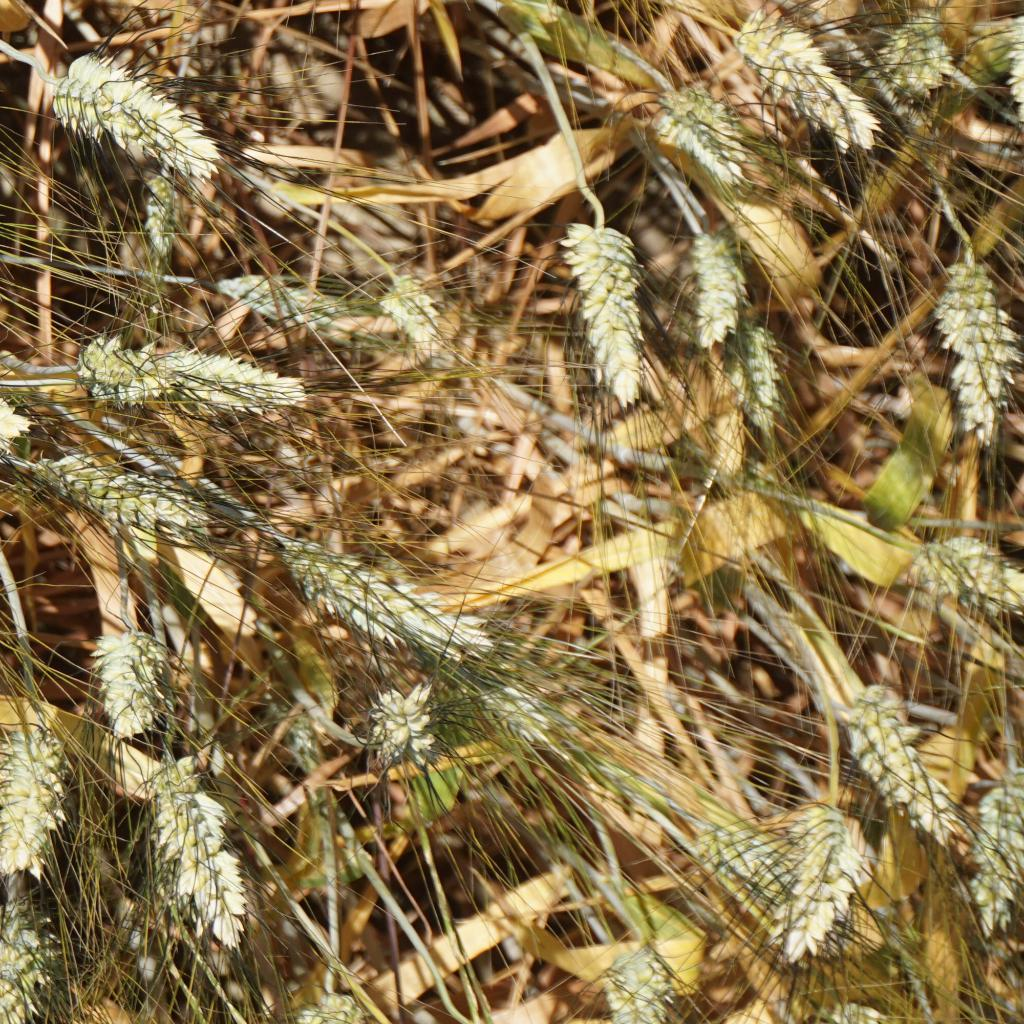0-0: (263, 523, 490, 641), (731, 16, 877, 152), (45, 51, 207, 166), (840, 685, 958, 837), (159, 769, 257, 943), (786, 799, 887, 952), (52, 449, 210, 541), (567, 224, 643, 413), (938, 259, 1011, 435), (0, 712, 71, 881), (91, 623, 179, 738), (157, 349, 307, 416), (961, 783, 1024, 941), (920, 526, 1022, 618), (651, 82, 743, 175), (369, 671, 453, 762), (473, 659, 560, 743), (685, 234, 745, 354), (219, 261, 331, 325), (726, 316, 787, 428), (877, 9, 956, 95), (610, 943, 688, 1024), (78, 331, 173, 395), (709, 822, 787, 886), (380, 275, 446, 345), (0, 904, 29, 1024), (140, 173, 184, 250), (0, 375, 32, 448)
